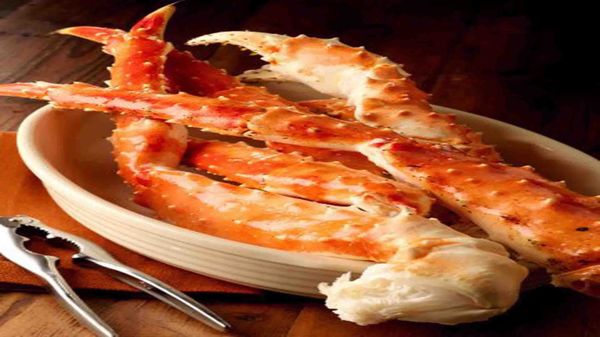sandwich: (1, 214, 233, 331)
